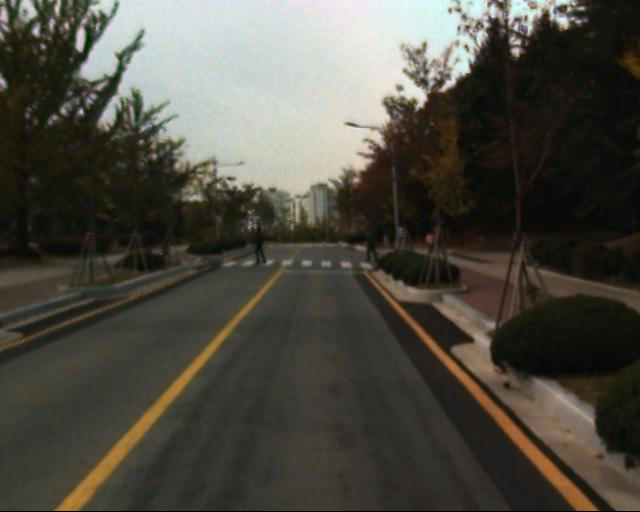person: (243, 222, 269, 266), (361, 224, 383, 269)
